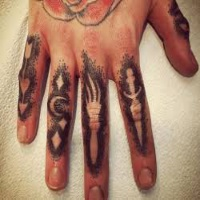ring: (36, 53, 85, 191)
